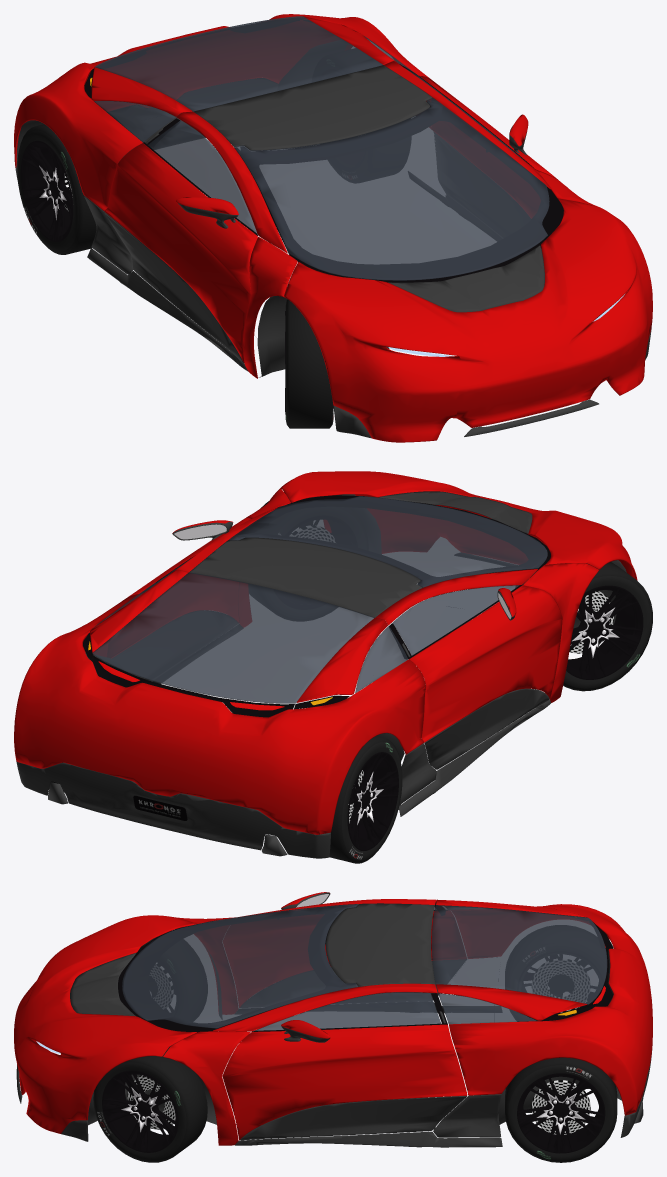
File: race_car.glb
3 views of the same model, one above another, from view 1: azimuth 30°, elevation 25°; view 2: azimuth 150°, elevation 25°; view 3: azimuth 270°, elevation 25° (orthographic). The views are drawn at different scales.
Visible parts, largest first — view 1: BodyRearPanelsColor1, BodyWindshield, BodyRoofPanel, BodyWindshieldGasket, WheelFrontR, WheelRearRRim, Underside, WheelRearR, WheelRearL; view 2: BodyRearPanelsColor1, BodyWindshield, BodyRoofPanel, BodyWindshieldGasket, WheelFrontRRim, WheelRearRRim, WheelRearR, WheelFrontL, WheelFrontR, Underside, WheelFrontLRim, License Plate (+1 smaller); view 3: BodyRearPanelsColor1, BodyWindshield, BodyRoofPanel, BodyWindshieldGasket, WheelFrontL, WheelRearLRim, WheelFrontLRim, WheelRearL, WheelRearR, WheelFrontR, WheelRearRBrakeDisc, Underside (+4 smaller).
Part boxes in pixels (x1,y1,x2,y2): BodyRearPanelsColor1: (14, 14, 652, 442); BodyWindshield: (94, 16, 549, 280); BodyRoofPanel: (15, 65, 651, 438); BodyWindshieldGasket: (84, 18, 563, 282); WheelFrontR: (285, 299, 333, 428); WheelRearRRim: (20, 140, 73, 241); Underside: (16, 40, 544, 377); WheelRearR: (17, 124, 104, 254); WheelRearL: (312, 48, 410, 182); BodyRearPanelsColor1: (14, 471, 637, 834); BodyWindshield: (92, 496, 547, 703); BodyRoofPanel: (16, 491, 550, 858); BodyWindshieldGasket: (83, 495, 550, 717); WheelFrontRRim: (566, 585, 643, 679); WheelRearRRim: (347, 752, 398, 850); WheelRearR: (329, 736, 402, 863); WheelFrontL: (249, 492, 367, 620); WheelFrontR: (563, 562, 652, 691); Underside: (48, 494, 626, 856); WheelFrontLRim: (274, 516, 357, 609); License Plate: (133, 795, 187, 820); BodyRearPanelsColor1: (14, 892, 652, 1145); BodyWindshield: (122, 904, 607, 1030); BodyRoofPanel: (16, 892, 652, 1147); BodyWindshieldGasket: (118, 901, 613, 1032); WheelFrontL: (93, 1050, 207, 1162); WheelRearLRim: (517, 1073, 605, 1153); WheelFrontLRim: (102, 1070, 178, 1152); WheelRearL: (505, 1057, 617, 1162); WheelRearR: (505, 925, 613, 1021); WheelFrontR: (136, 938, 207, 1021); WheelRearRBrakeDisc: (532, 959, 589, 1013); Underside: (87, 955, 643, 1129).
Size of the model in its own units: 2.54 by 1.15 by 4.36.
Materials: 15 (5 with a texture image).
